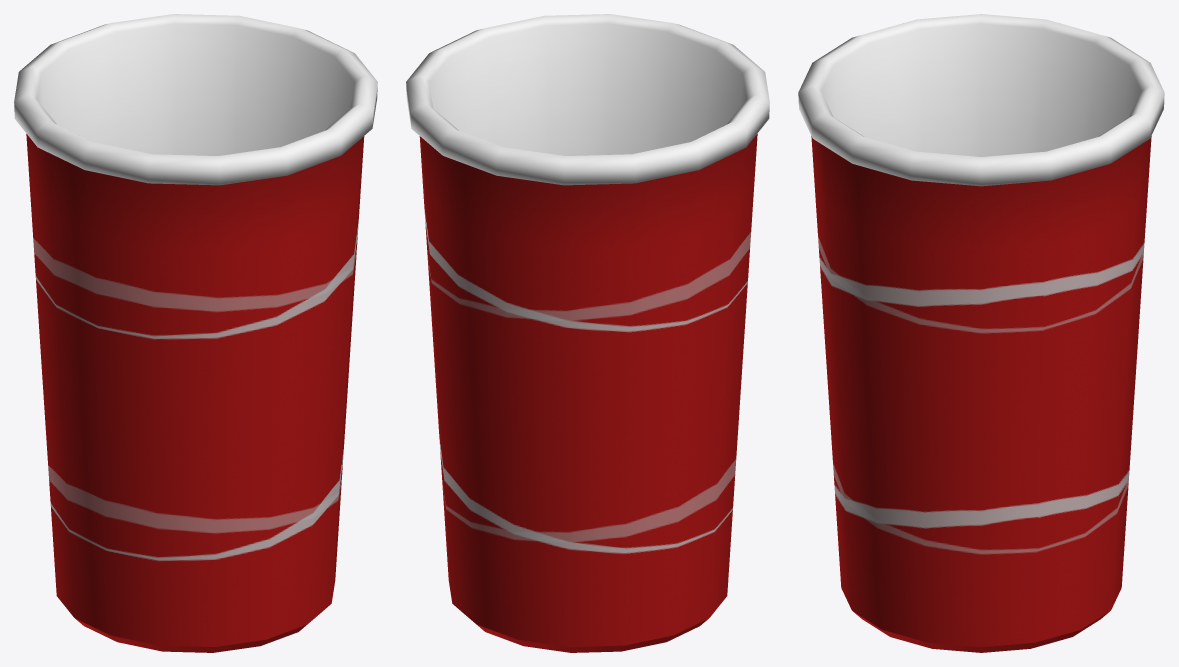
Rendered from CupEmpty.FBX.
3 renders of one model, left to right at view 1: azimuth 30°, elevation 25°; view 2: azimuth 150°, elevation 25°; view 3: azimuth 270°, elevation 25°, orthographic.
Visible parts, largest first — view 1: CupEmpty; view 2: CupEmpty; view 3: CupEmpty.
Boxes of the visible parts, x1,y1,x2,y2 form: CupEmpty: (14, 14, 377, 652); CupEmpty: (406, 14, 769, 652); CupEmpty: (798, 14, 1164, 652).
Size of the model in its own units: 10.53 by 16.26 by 10.53.
